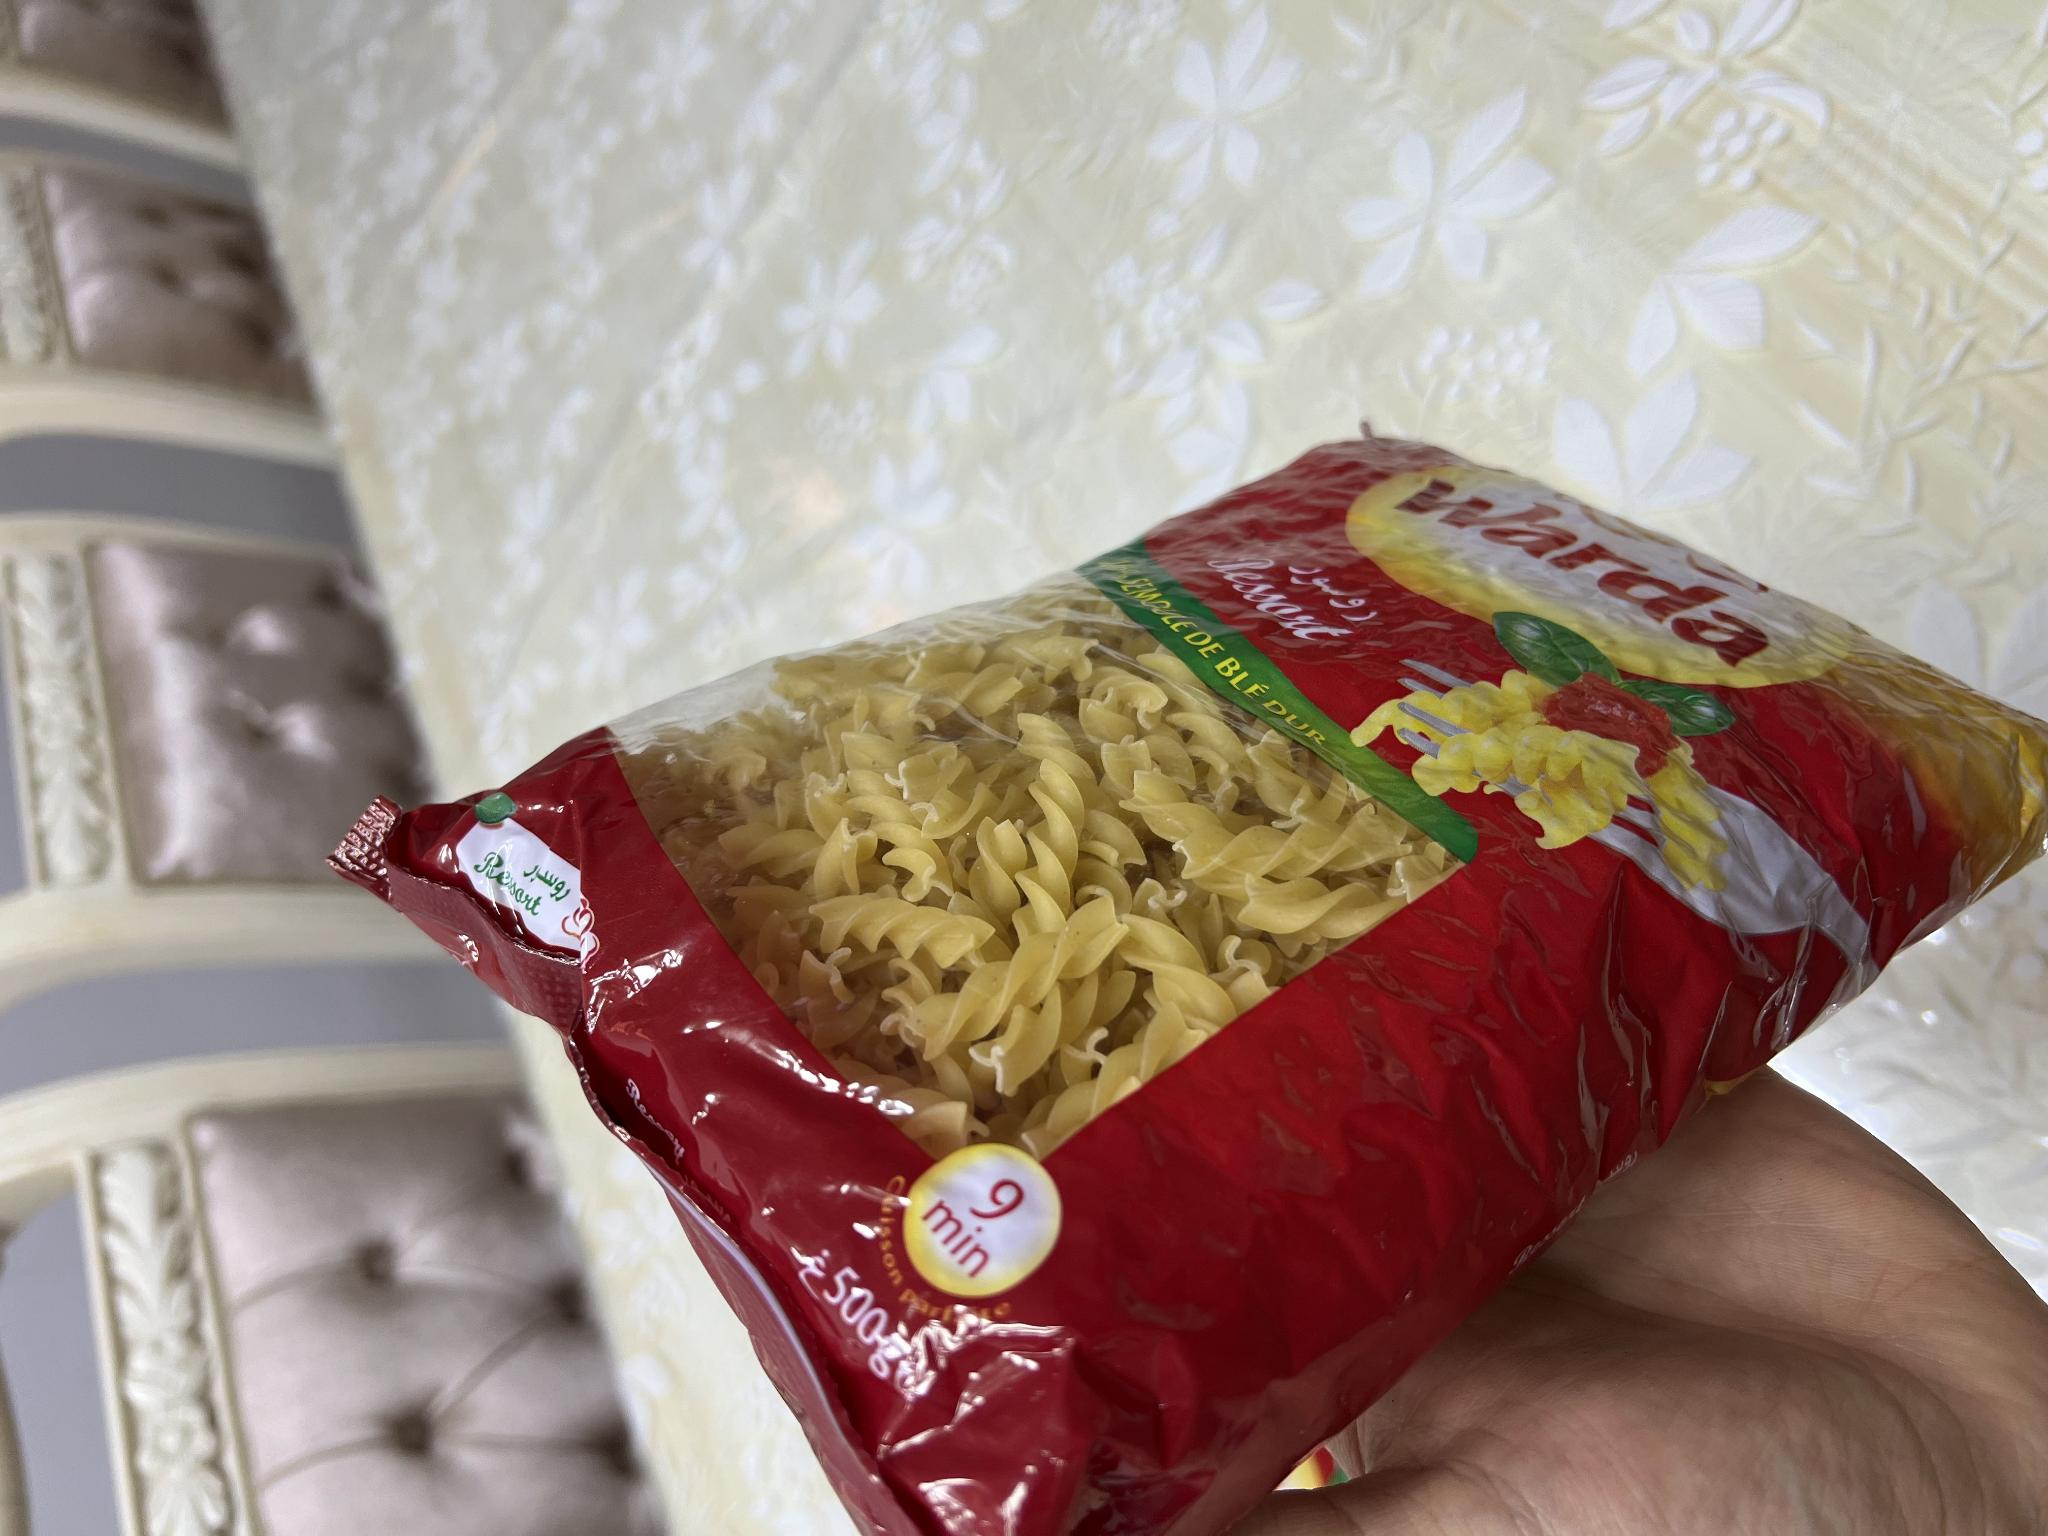Ressort: (337, 434, 2048, 1526)
